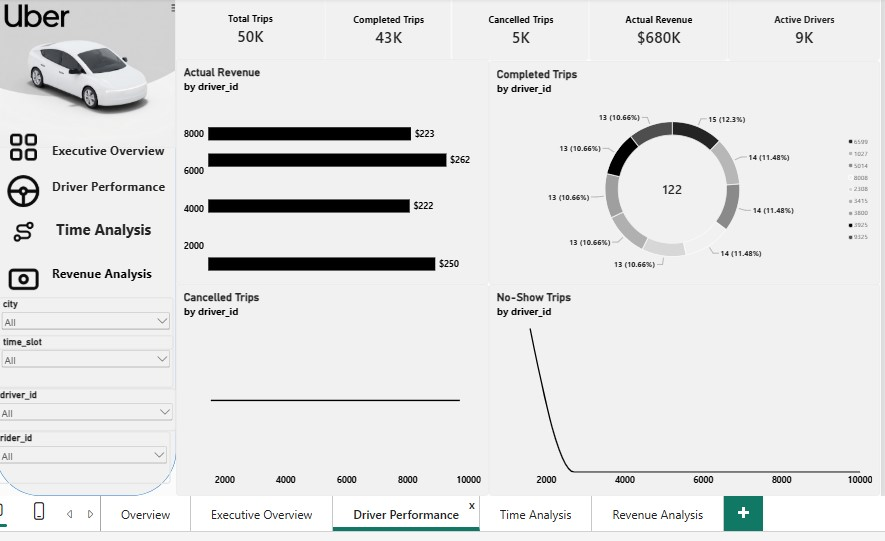

What the dashboard file says about the page in this screenshot:
{"tool":"powerbi","page":{"name":"Driver Performance","canvas":[1920,1080],"ordinal":2},"visuals":[{"type":"shape","box":[0,0,393.3,1080],"z":0},{"type":"image","box":[0,0,393.3,325.3],"z":1000},{"type":"image","box":[0,289.1,123.3,70.2],"z":2000},{"type":"image","box":[0,376.3,123.3,82.9],"z":3000},{"type":"textbox","box":[123.3,312.5,259.4,63.8],"z":4000},{"type":"textbox","box":[123.3,391.2,276.4,55.3],"z":5000},{"type":"image","box":[6.4,478.3,110.6,55.3],"z":6000},{"type":"textbox","box":[123.3,478.3,248.7,61.7],"z":7000},{"type":"cardVisual","fields":{"Data":["KPIs.Total Trips"]},"box":[393.3,0,323.1,136.1],"z":8000},{"type":"cardVisual","fields":{"Data":["KPIs.Completed Trips"]},"box":[716.5,0,274.3,136.1],"z":9000},{"type":"cardVisual","fields":{"Data":["KPIs.Cancelled Trips"]},"box":[990.7,0,297.6,136.1],"z":10000},{"type":"cardVisual","fields":{"Data":["KPIs.Actual Revenue"]},"box":[1288.3,0,301.9,136.1],"z":11000},{"type":"cardVisual","fields":{"Data":["KPIs.Active Drivers"]},"box":[1590.2,0,329.5,136.1],"z":12000},{"type":"clusteredBarChart","fields":{"Category":["final_dataset.driver_id"],"Y":["KPIs.Actual Revenue"]},"box":[393.3,131.8,677.8,488.8],"z":13000},{"type":"donutChart","fields":{"Category":["final_dataset.driver_id"],"Y":["KPIs.Completed Trips"]},"box":[1071.5,136.1,848.3,484.7],"z":14000},{"type":"lineChart","fields":{"Category":["final_dataset.driver_id"],"Y":["KPIs.Cancelled Trips"]},"box":[393,621,678,459],"z":15000},{"type":"lineChart","fields":{"Category":["final_dataset.driver_id"],"Y":["KPIs.No-Show Trips"]},"box":[1071,621,848,459],"z":16000},{"type":"image","box":[12.8,569.8,97.8,78.7],"z":17000},{"type":"textbox","box":[123.3,578.3,236,61.7],"z":18000},{"type":"slicer","fields":{"Values":["final_dataset.city"]},"box":[6.4,648.4,380.6,114.8],"z":18001},{"type":"slicer","fields":{"Values":["final_dataset.time_slot"]},"box":[6.4,731.3,380.6,114.8],"z":18002},{"type":"slicer","fields":{"Values":["final_dataset.driver_id"]},"box":[0,846.1,393.3,93.5],"z":18003},{"type":"slicer","fields":{"Values":["final_dataset.rider_id"]},"box":[0,939.7,380.6,114.8],"z":18004}]}

Visuals, with their boxes on the page's 1920x1080 design canvas (x1, y1, x2, y2). These are canvas units, not pixel positions in the 885x541 screenshot, which may show the page scaled, cropped or inside an application window:
shape: box=[0, 0, 393, 1080]
image: box=[0, 0, 393, 325]
image: box=[0, 289, 123, 359]
image: box=[0, 376, 123, 459]
textbox: box=[123, 312, 383, 376]
textbox: box=[123, 391, 400, 446]
image: box=[6, 478, 117, 534]
textbox: box=[123, 478, 372, 540]
cardVisual - KPIs.Total Trips: box=[393, 0, 716, 136]
cardVisual - KPIs.Completed Trips: box=[716, 0, 991, 136]
cardVisual - KPIs.Cancelled Trips: box=[991, 0, 1288, 136]
cardVisual - KPIs.Actual Revenue: box=[1288, 0, 1590, 136]
cardVisual - KPIs.Active Drivers: box=[1590, 0, 1920, 136]
clusteredBarChart - final_dataset.driver_id x KPIs.Actual Revenue: box=[393, 132, 1071, 621]
donutChart - final_dataset.driver_id x KPIs.Completed Trips: box=[1072, 136, 1920, 621]
lineChart - final_dataset.driver_id x KPIs.Cancelled Trips: box=[393, 621, 1071, 1080]
lineChart - final_dataset.driver_id x KPIs.No-Show Trips: box=[1071, 621, 1919, 1080]
image: box=[13, 570, 111, 648]
textbox: box=[123, 578, 359, 640]
slicer - final_dataset.city: box=[6, 648, 387, 763]
slicer - final_dataset.time_slot: box=[6, 731, 387, 846]
slicer - final_dataset.driver_id: box=[0, 846, 393, 940]
slicer - final_dataset.rider_id: box=[0, 940, 381, 1054]
